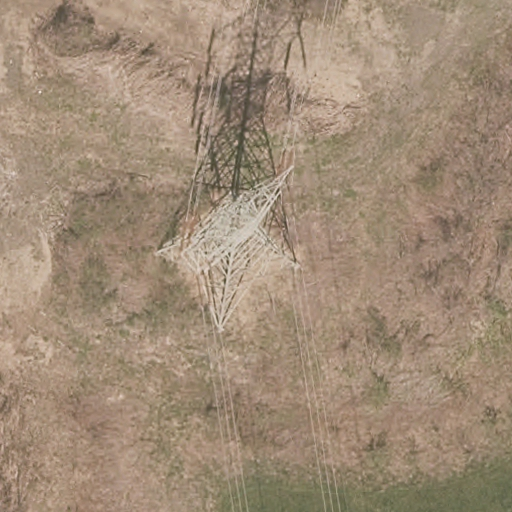TT: (153, 163, 302, 330)
